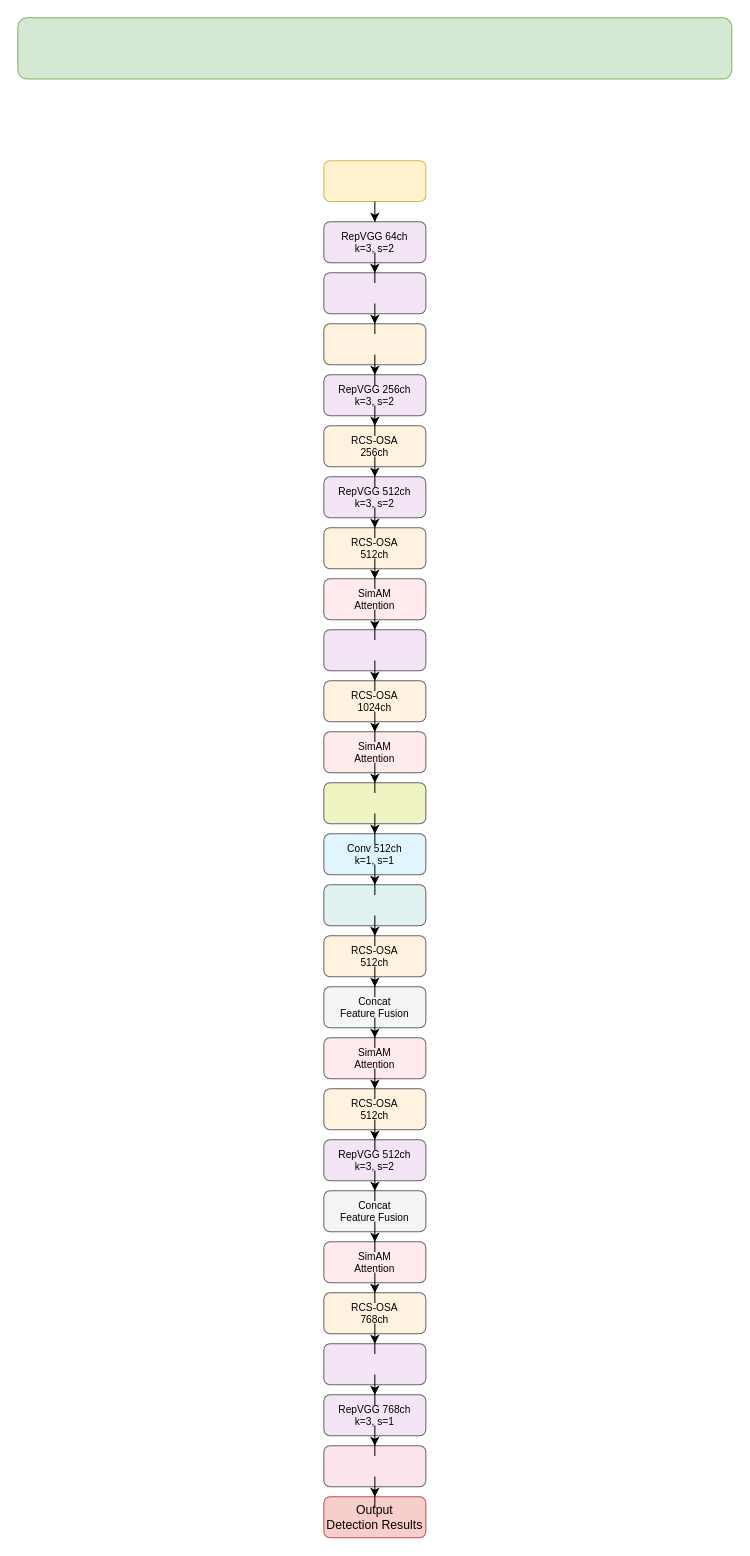
This 750x1556 diagram has some shape labels left out. The shapes that lost their labels are listed below. From the top down, each one's box as (x1, y1, x2, y2) in pixels, then its label:
(17, 17, 732, 79): YOLOv4-RepVGG-RCSOSA-SimAM RepVGG + RCS-OSA + SimAM全能版 + IDetect检测头
(323, 160, 426, 201): Input Image 640×640×3
(323, 272, 426, 314): RepVGG 128ch k=3, s=2
(323, 323, 426, 365): RCS-OSA 128ch
(323, 629, 426, 671): RepVGG 1024ch k=3, s=2
(323, 782, 426, 824): SPPF 1024ch, k=5
(323, 884, 426, 926): Upsample ×2
(323, 1343, 426, 1385): RepVGG 512ch k=3, s=1
(323, 1445, 426, 1487): IDetect Classes: nc
